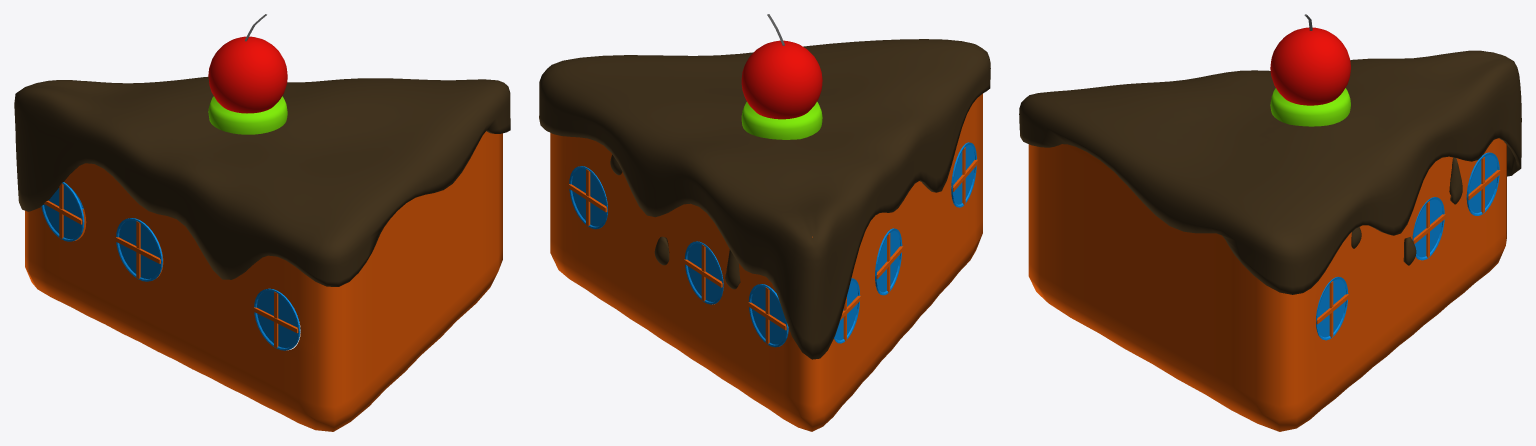
File: land8 details.fbx
The picture shows the model from 3 angles, left to right: view 1: azimuth 30°, elevation 25°; view 2: azimuth 150°, elevation 25°; view 3: azimuth 270°, elevation 25°; orthographic projection. The views are drawn at different scales.
Visible parts, largest first — view 1: Cube.001, Plane.005, Plane.006, ground stone.007, ground stone.006; view 2: Cube.001, Plane.005, Plane.006, ground stone.007, ground stone.006; view 3: Plane.005, Cube.001, ground stone.007, Plane.006, ground stone.006.
Part boxes in pixels (<box>): Cube.001: <box>14,77,510,286</box>; Plane.005: <box>25,131,502,431</box>; Plane.006: <box>41,182,300,350</box>; ground stone.007: <box>208,36,287,113</box>; ground stone.006: <box>208,96,287,134</box>; Cube.001: <box>539,39,990,359</box>; Plane.005: <box>550,93,982,431</box>; Plane.006: <box>569,142,976,347</box>; ground stone.007: <box>741,40,822,119</box>; ground stone.006: <box>741,102,822,139</box>; Plane.005: <box>1028,138,1506,431</box>; Cube.001: <box>1019,50,1521,294</box>; ground stone.007: <box>1270,27,1350,105</box>; Plane.006: <box>1316,152,1499,340</box>; ground stone.006: <box>1270,88,1350,126</box>.
Size of the model in its own units: 1490 by 1196 by 1666.
